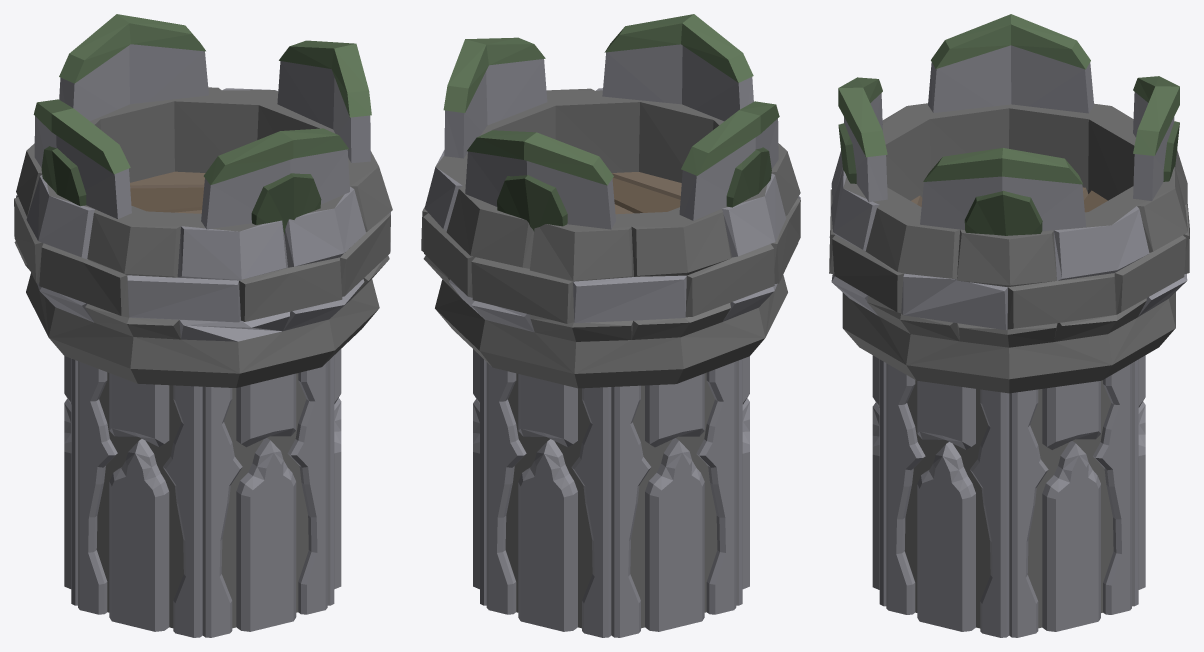
The model's file is _TOWER_3_UP_1.fbx.
The picture shows the model from 3 angles, left to right: view 1: azimuth 30°, elevation 25°; view 2: azimuth 150°, elevation 25°; view 3: azimuth 270°, elevation 25°; orthographic projection.
Visible parts, largest first — view 1: TOWER_3_UP_1; view 2: TOWER_3_UP_1; view 3: TOWER_3_UP_1.
Boxes of the visible parts, x1,y1,x2,y2 form: TOWER_3_UP_1: (14, 14, 392, 637); TOWER_3_UP_1: (421, 14, 800, 637); TOWER_3_UP_1: (829, 14, 1189, 637).
Size of the model in its own units: 459 by 659 by 439.
